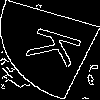K: (25, 25, 95, 74)
